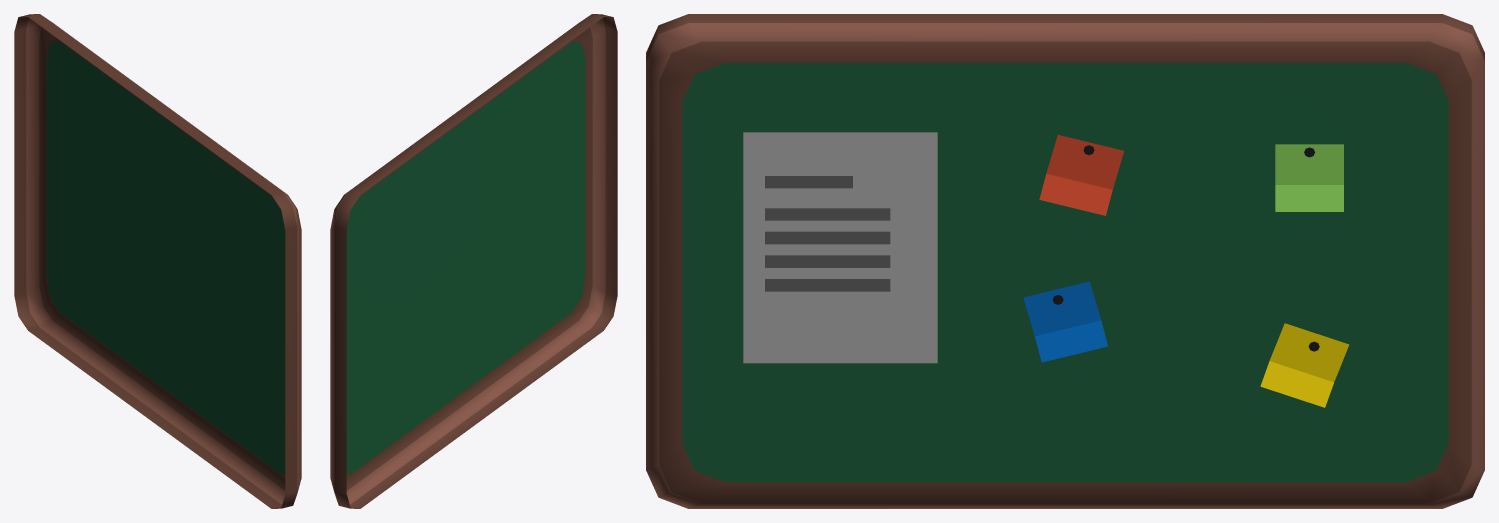
File: Note Board - Copy.fbx
3 renders of one model, left to right at view 1: azimuth 30°, elevation 25°; view 2: azimuth 150°, elevation 25°; view 3: azimuth 270°, elevation 25°, orthographic. The views are drawn at different scales.
Parts seen in each view (by area): view 1: Note Board; view 2: Note Board; view 3: Note Board.
Boxes of the visible parts, x1,y1,x2,y2 form: Note Board: (14,14,301,508); Note Board: (330,14,617,508); Note Board: (646,14,1484,508).
Size of the model in its own units: 0.7997 by 9.6 by 15.03.
